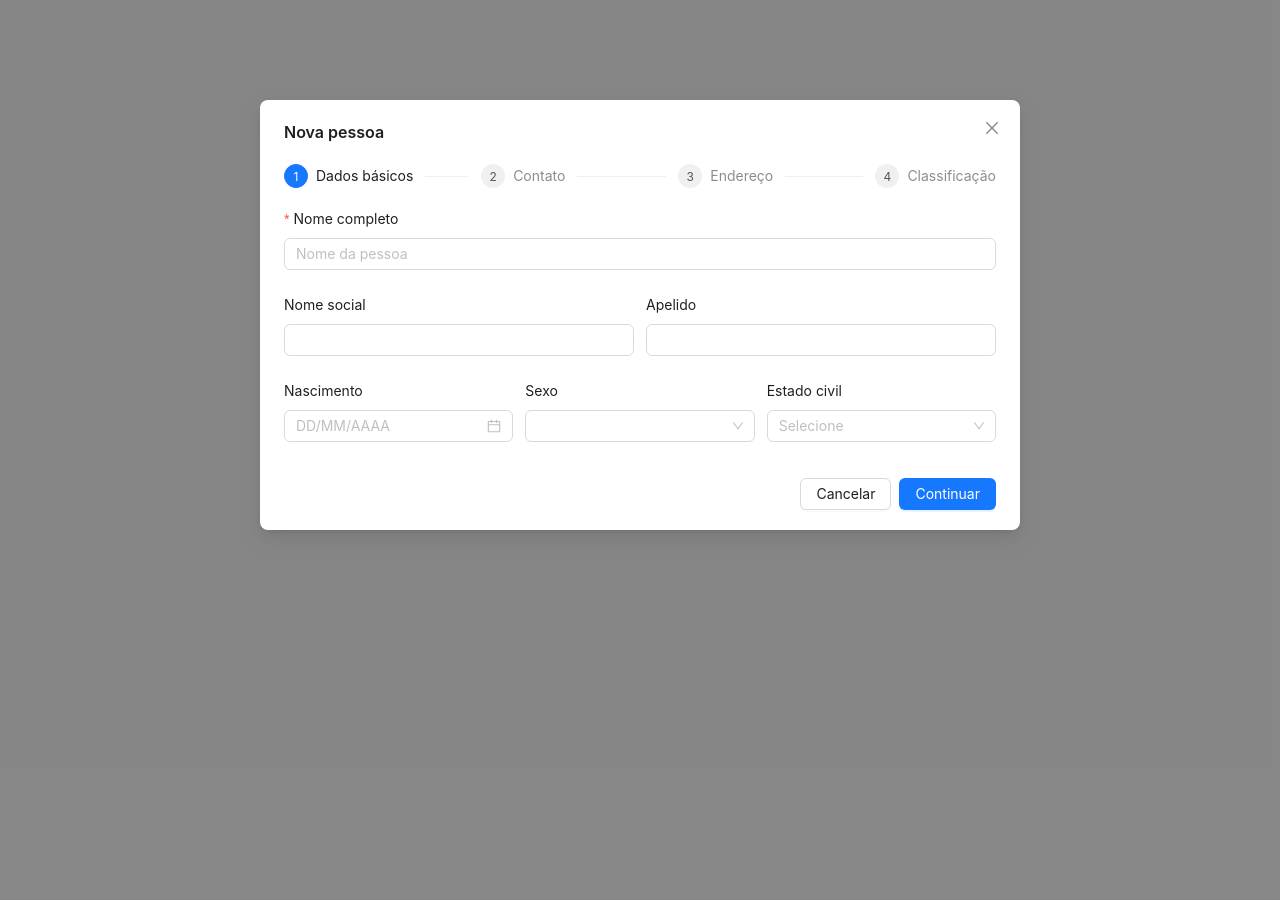
it: PessoaWizard › aplica campos obrigatórios da configuração do tenant no cadastro interno
Type "Maria Silva" into the field with placeholder "Nome da pessoa" at (640, 254), box 284,238 -> 996,270
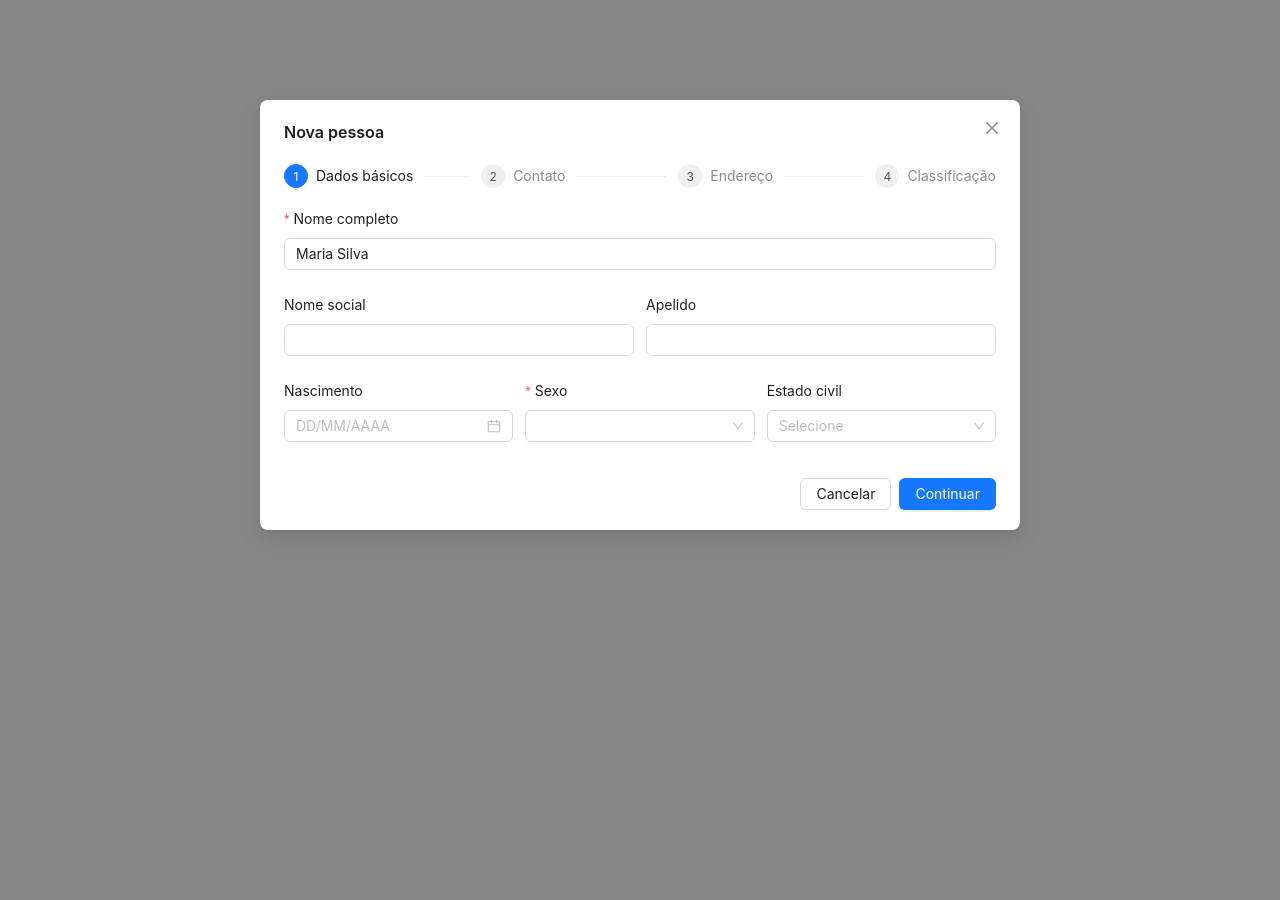
Expected: the search field titled "Sexo" has class "ant-form-item-required", 525,380 -> 581,402
Click the button "Continuar" at (948, 494), box 900,478 -> 996,510
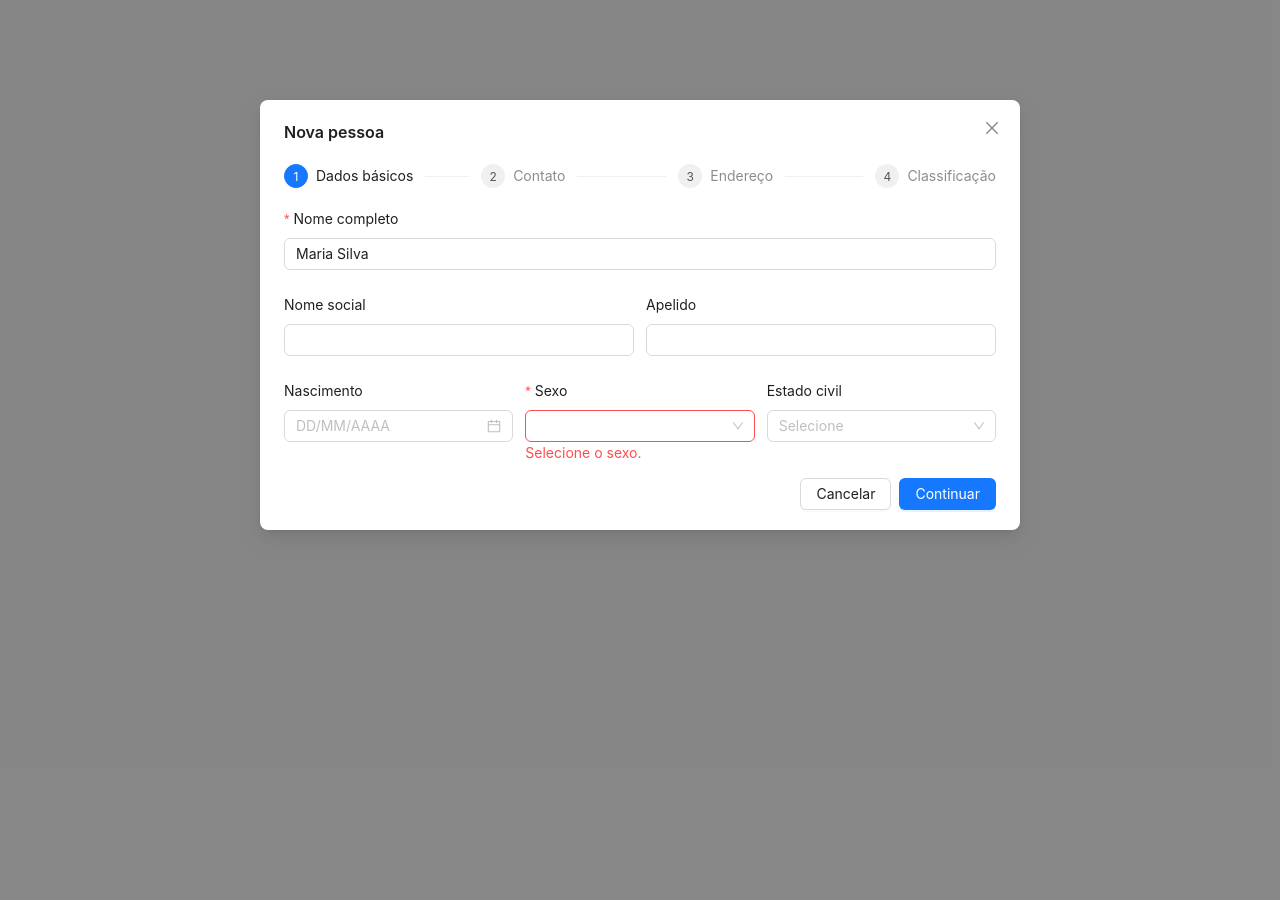
Expected: the text "Dados básicos" is shown, 316,164 -> 425,188
Expected: the text "Selecione o sexo." is shown, 525,444 -> 642,461
